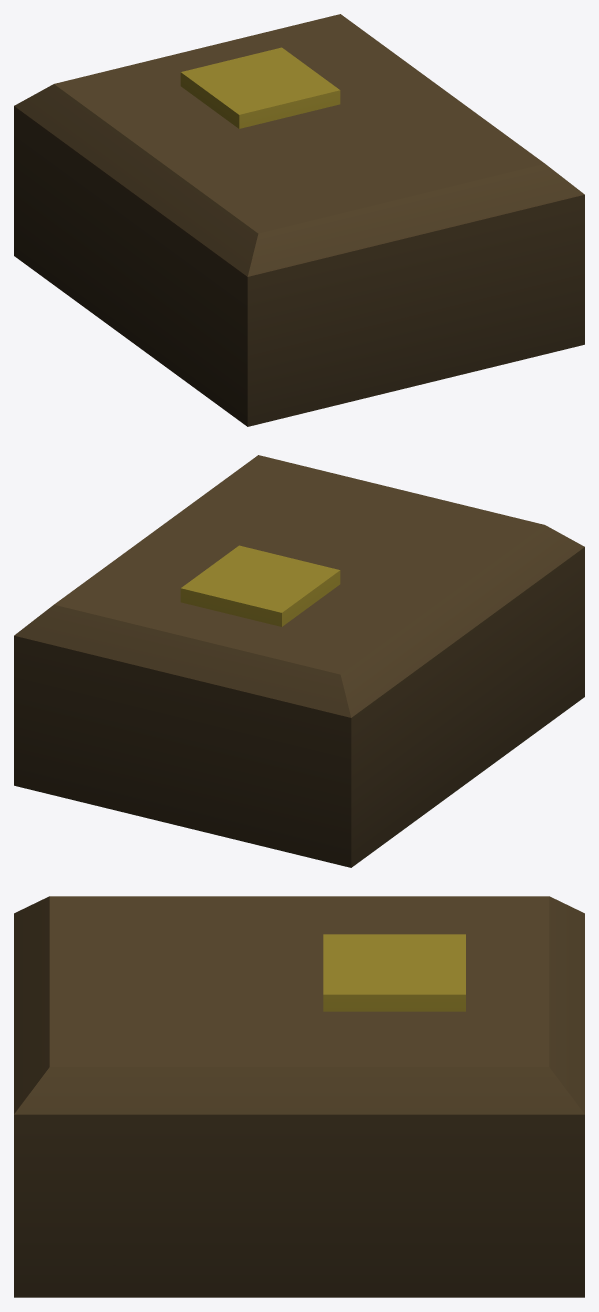
Rendered from decider-combinator.glb.
The picture shows the model from 3 angles, top to bottom: view 1: azimuth 30°, elevation 25°; view 2: azimuth 150°, elevation 25°; view 3: azimuth 270°, elevation 25°; orthographic projection. The views are drawn at different scales.
Parts seen in each view (by area): view 1: decider-combinator; view 2: decider-combinator; view 3: decider-combinator.
Boxes of the visible parts, box(x1,y1,x2,y2) form: decider-combinator: box(14, 14, 584, 426); decider-combinator: box(14, 455, 584, 867); decider-combinator: box(14, 896, 584, 1297).
Bounding box in the file's own units: 0.2 × 0.108 × 0.24.
